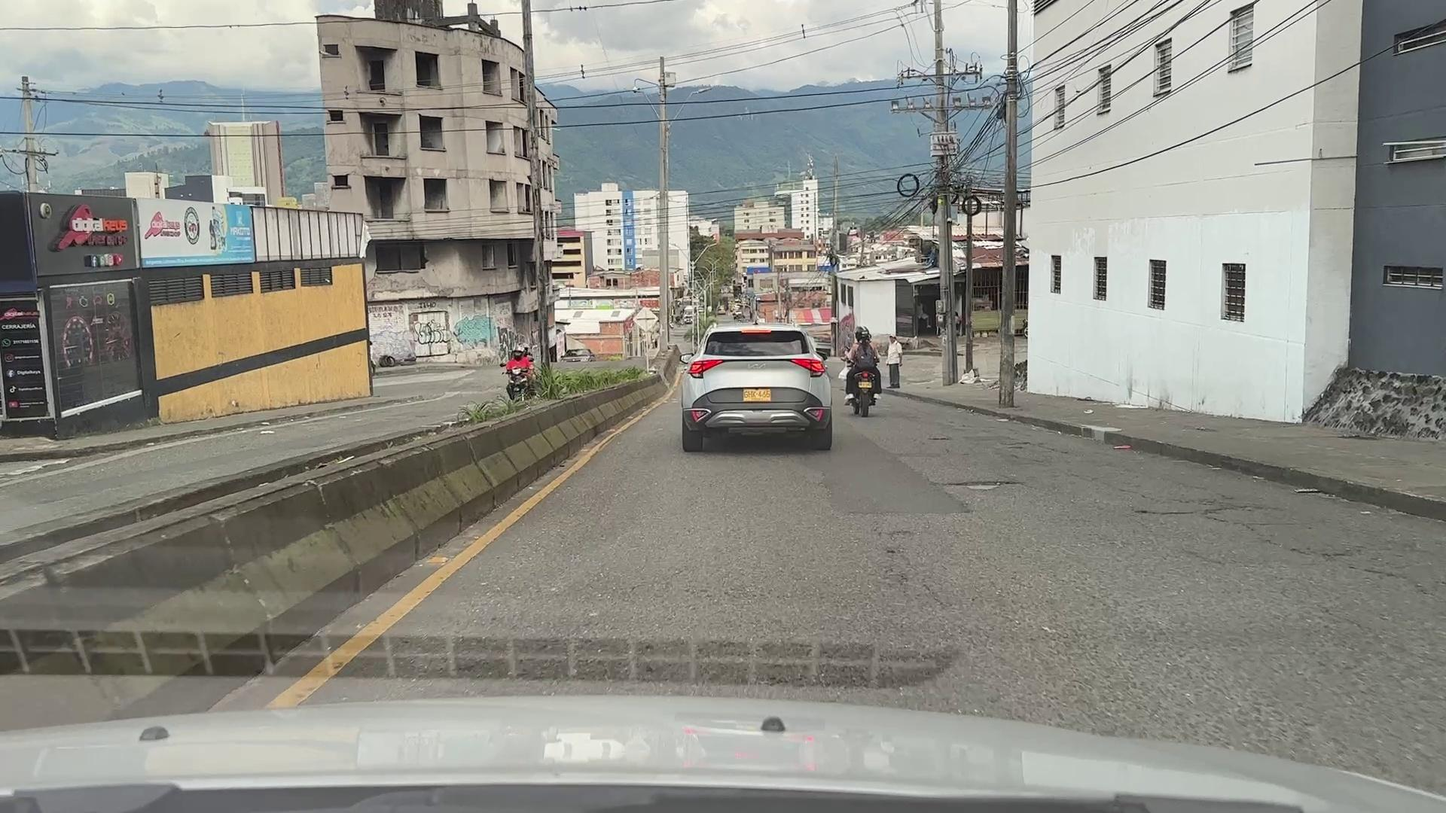bache: (942, 481, 1023, 490)
